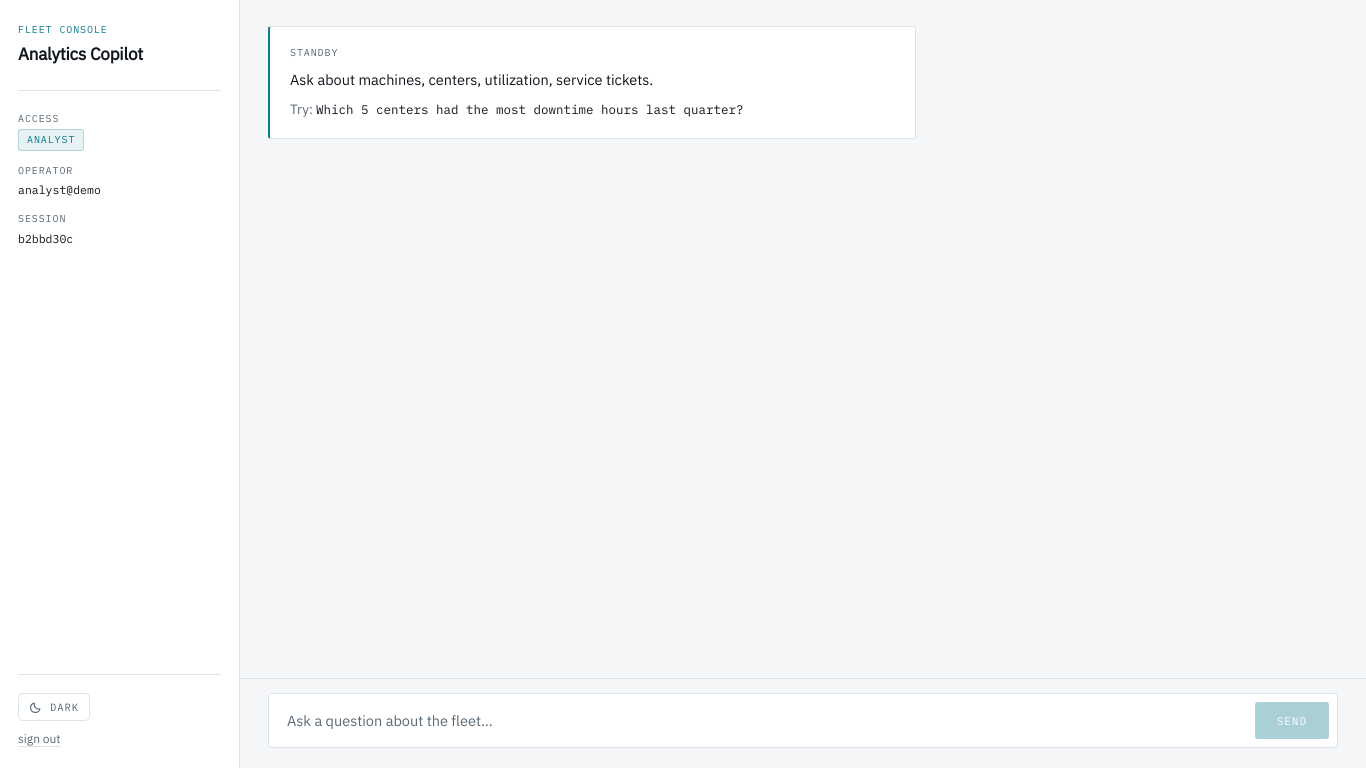
thumbs-down feedback prompts for a comment and includes it in the POST
Type "how many machines are online" into the field with placeholder "Ask a question about the fleet…" at (761, 720), box x1=277 y1=702 x2=1245 y2=739
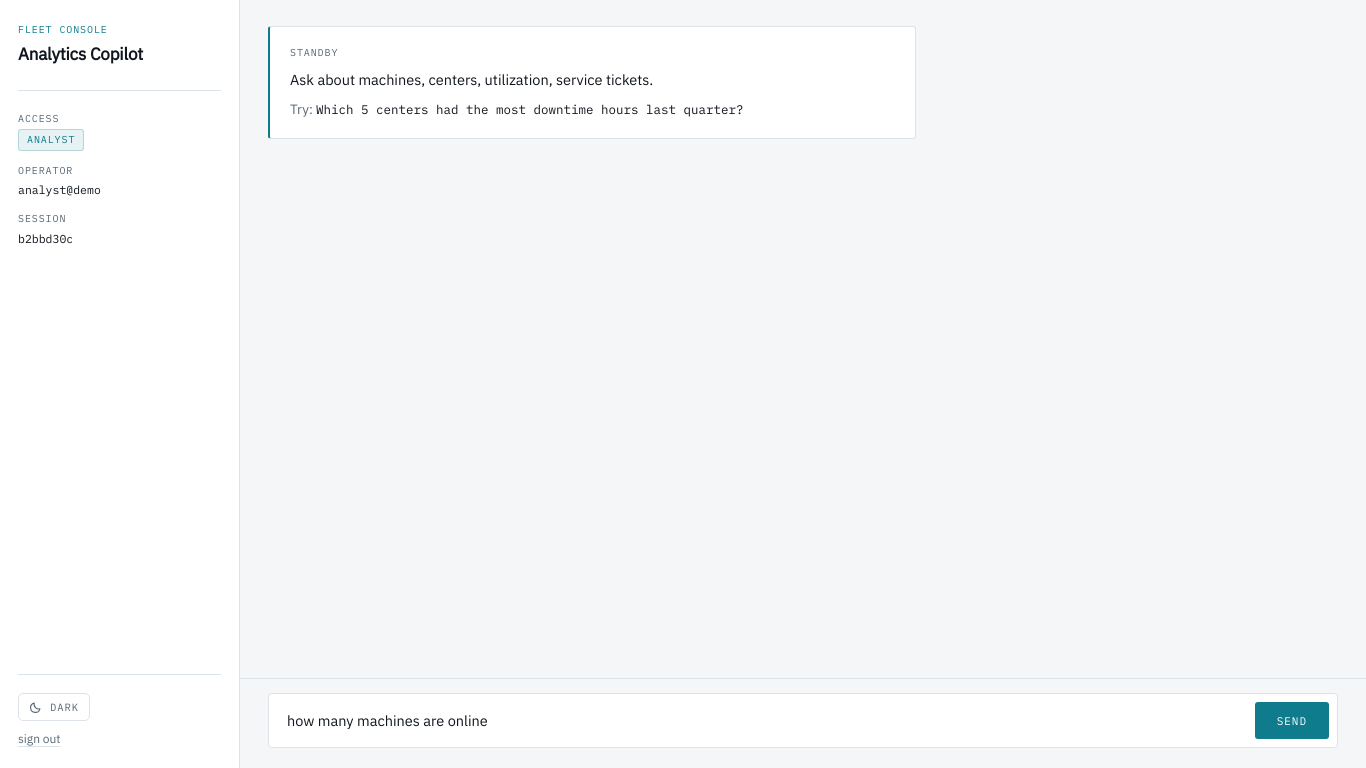
Click the button "Send" at (1292, 720), box x1=1255 y1=702 x2=1329 y2=739
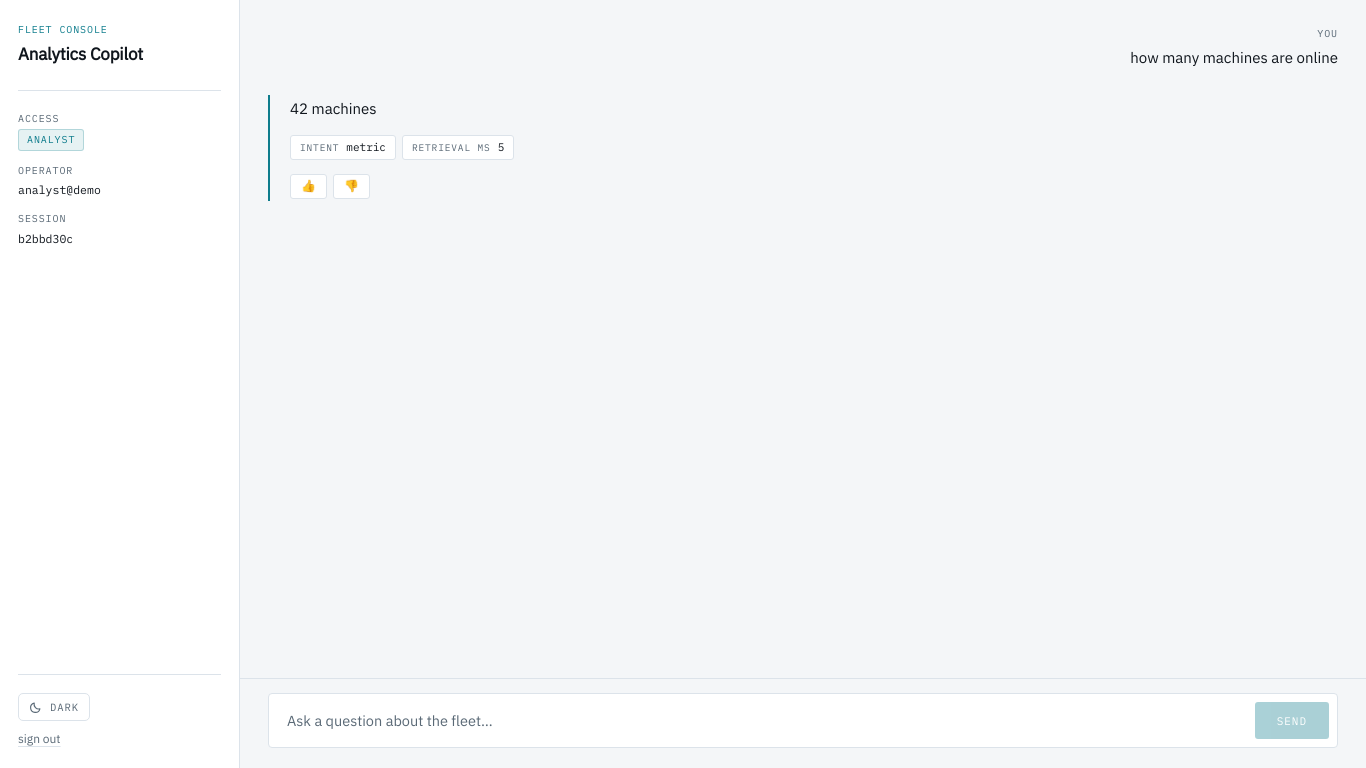
Check: the text "42 machines" is shown, box x1=290 y1=99 x2=376 y2=118
Click the button "👎" at (352, 186), box x1=333 y1=174 x2=370 y2=199
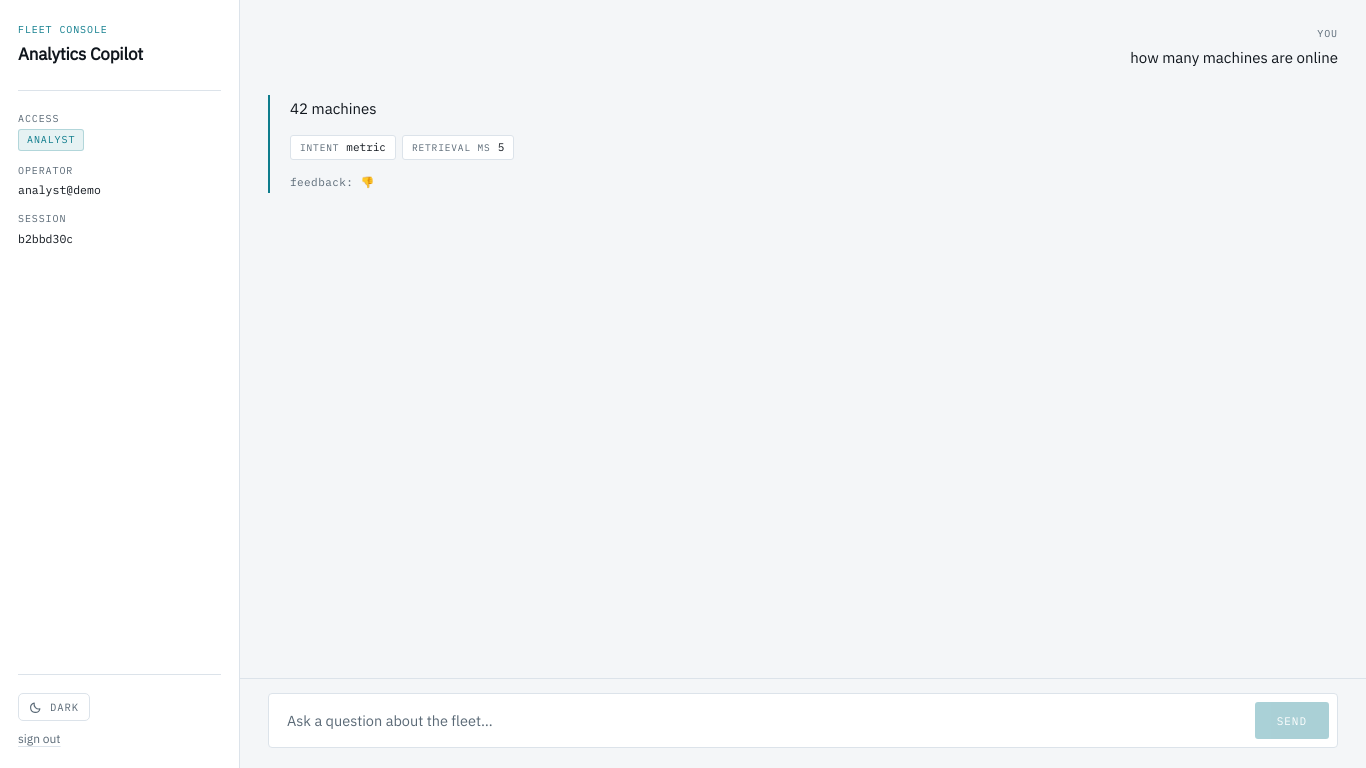
Check: the text "feedback: 👎" is shown, box x1=290 y1=174 x2=375 y2=191
